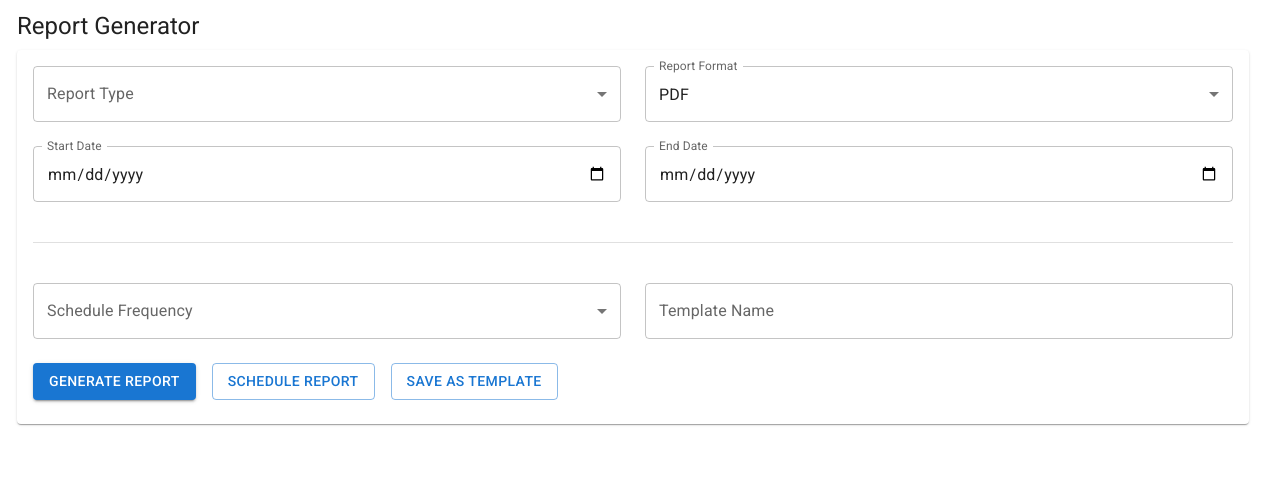
ReportGenerator › requires minimum configuration
# Try to generate report without selecting type
Click the button "Generate Report". click: (114,382)
box: [33, 363, 196, 400]
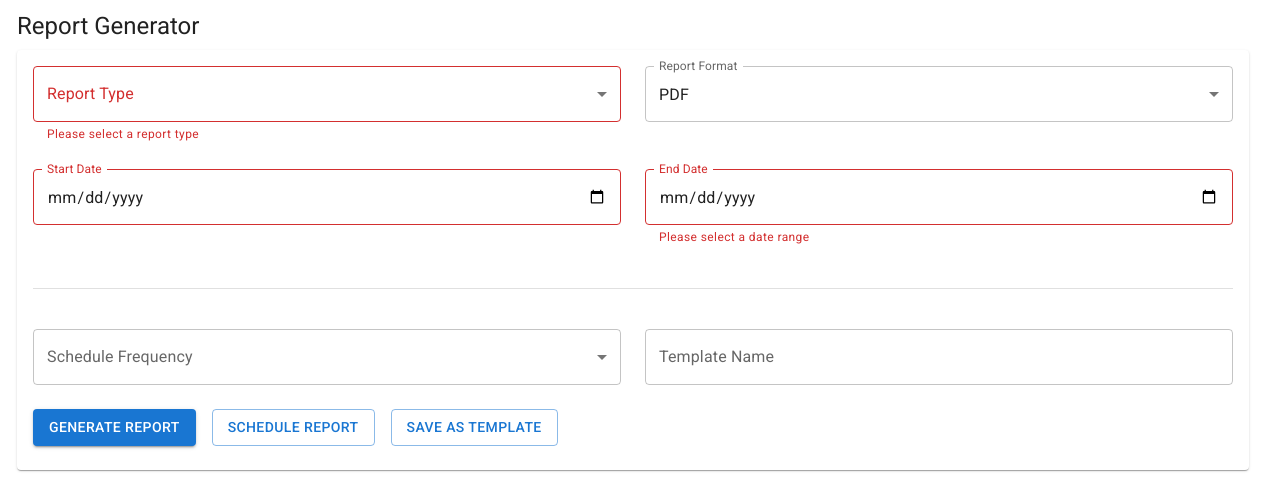
Check: the text "Please select a report type" is shown, box [47, 127, 199, 141]
